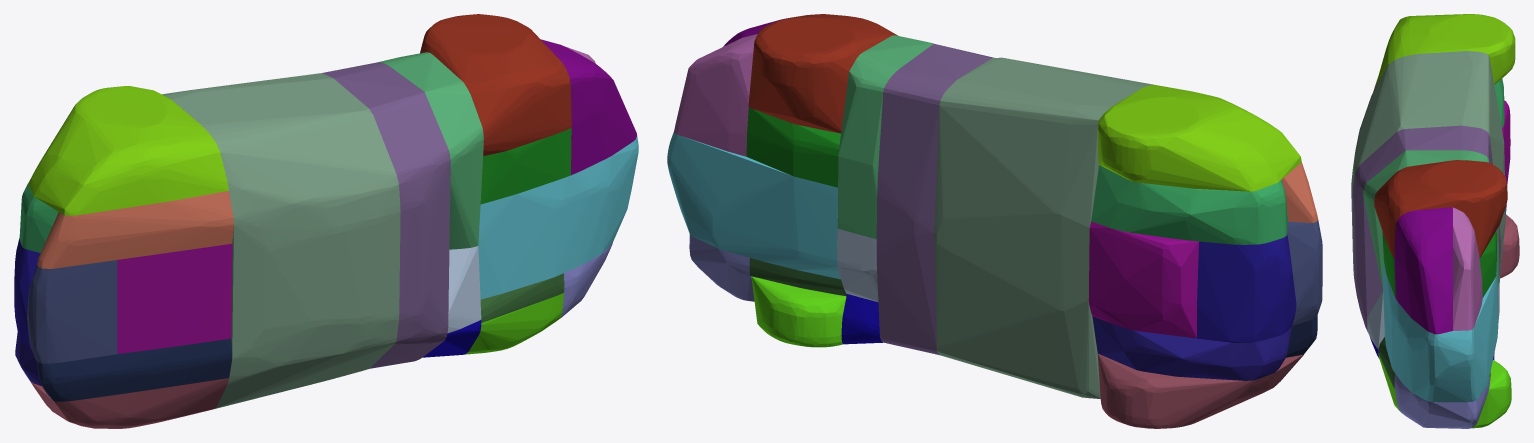
Rendered from coacd_collision.obj.
3 views of the same model, side by side, from view 1: azimuth 30°, elevation 25°; view 2: azimuth 150°, elevation 25°; view 3: azimuth 270°, elevation 25° (orthographic). The views are drawn at different scales.
Visible parts, largest first — view 1: geometry_0, geometry_4, geometry_1, geometry_2, geometry_15, geometry_14, geometry_9, geometry_16, geometry_21, geometry_3, geometry_11, geometry_13 (+9 smaller); view 2: geometry_0, geometry_1, geometry_4, geometry_2, geometry_15, geometry_14, geometry_10, geometry_20, geometry_3, geometry_13, geometry_18, geometry_7 (+9 smaller); view 3: geometry_0, geometry_2, geometry_15, geometry_11, geometry_1, geometry_4, geometry_7, geometry_3, geometry_12, geometry_17, geometry_8, geometry_13 (+4 smaller).
Part boxes in pixels (bbox=[...]): geometry_0: bbox=[162, 73, 400, 408]; geometry_4: bbox=[28, 86, 228, 215]; geometry_1: bbox=[322, 62, 450, 368]; geometry_2: bbox=[478, 136, 638, 299]; geometry_15: bbox=[420, 14, 571, 155]; geometry_14: bbox=[117, 243, 232, 353]; geometry_9: bbox=[37, 191, 233, 268]; geometry_16: bbox=[27, 260, 117, 363]; geometry_21: bbox=[36, 338, 232, 401]; geometry_3: bbox=[378, 52, 483, 249]; geometry_11: bbox=[541, 39, 636, 175]; geometry_13: bbox=[30, 378, 228, 428]; geometry_0: bbox=[934, 57, 1154, 398]; geometry_1: bbox=[876, 44, 994, 355]; geometry_4: bbox=[1098, 85, 1301, 191]; geometry_2: bbox=[667, 132, 840, 279]; geometry_15: bbox=[748, 14, 897, 133]; geometry_14: bbox=[1088, 221, 1198, 338]; geometry_10: bbox=[1091, 165, 1287, 244]; geometry_20: bbox=[1197, 235, 1296, 342]; geometry_3: bbox=[837, 35, 934, 238]; geometry_13: bbox=[1097, 353, 1303, 428]; geometry_18: bbox=[1092, 316, 1292, 380]; geometry_7: bbox=[674, 34, 757, 156]; geometry_0: bbox=[1351, 51, 1505, 280]; geometry_2: bbox=[1383, 259, 1498, 402]; geometry_15: bbox=[1374, 160, 1507, 258]; geometry_11: bbox=[1394, 207, 1452, 334]; geometry_1: bbox=[1352, 125, 1500, 354]; geometry_4: bbox=[1375, 14, 1515, 87]; geometry_7: bbox=[1453, 207, 1482, 330]; geometry_3: bbox=[1363, 150, 1499, 289]; geometry_12: bbox=[1394, 374, 1489, 428]; geometry_17: bbox=[1378, 353, 1511, 428]; geometry_8: bbox=[1382, 231, 1496, 297]; geometry_13: bbox=[1500, 214, 1519, 278].
Bounding box in the file's own units: 107 × 49.6 × 30.83.
